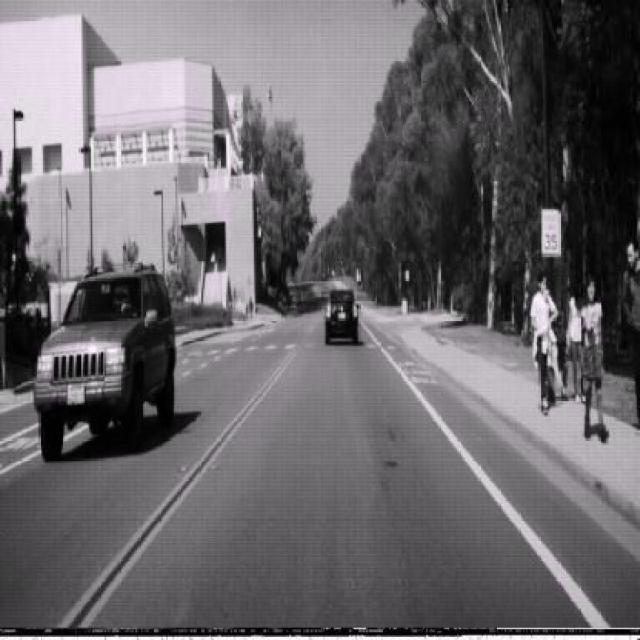speedLimit35: (540, 210, 560, 258)
